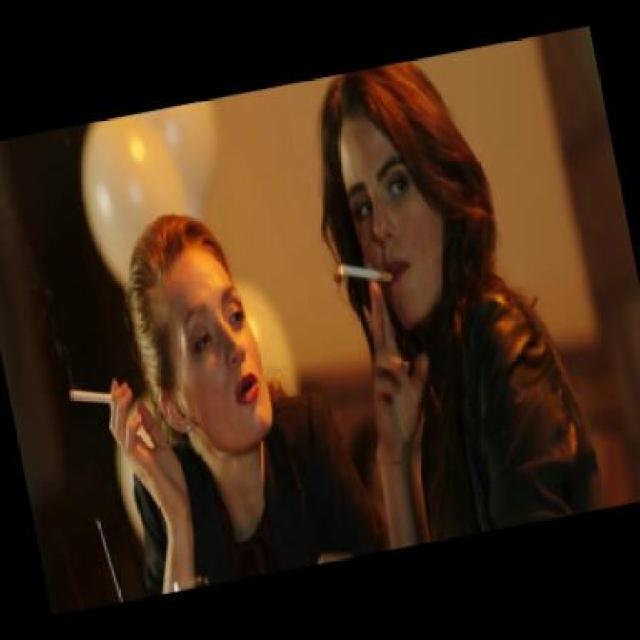cigarette: (336, 252, 396, 294), (67, 377, 115, 412)
